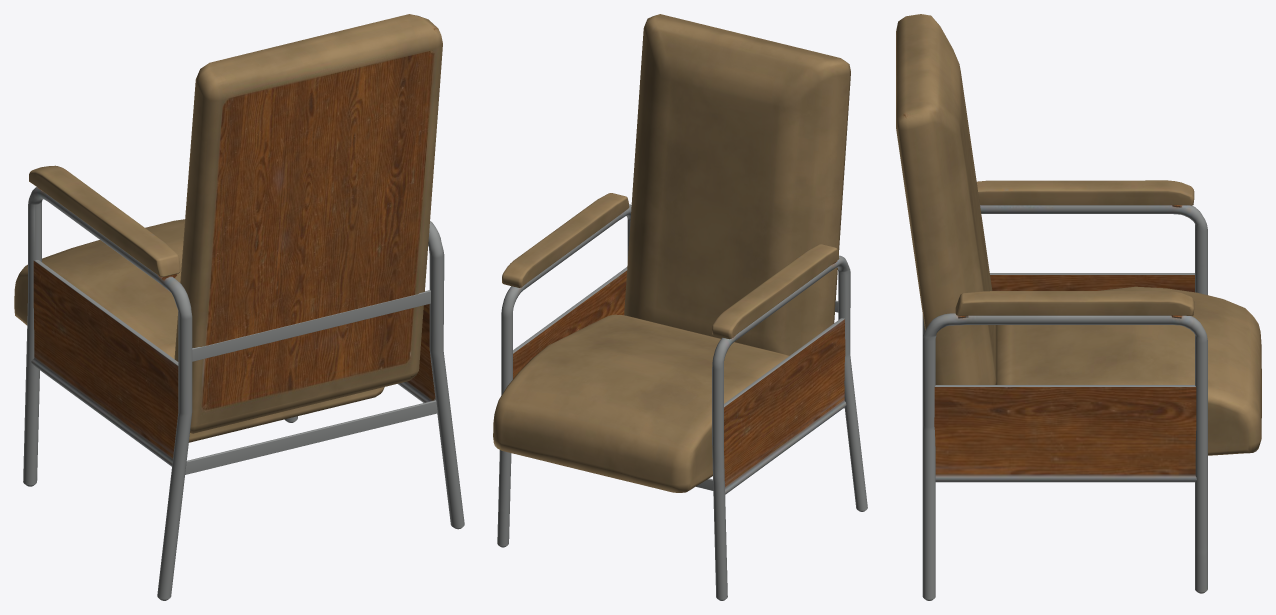
Rendered from chair.fbx.
3 renders of one model, left to right at view 1: azimuth 30°, elevation 25°; view 2: azimuth 150°, elevation 25°; view 3: azimuth 270°, elevation 25°, orthographic. The views are drawn at different scales.
Visible parts, largest first — view 1: defaultMaterial; view 2: defaultMaterial; view 3: defaultMaterial.
Boxes of the visible parts, x1,y1,x2,y2 form: defaultMaterial: [14, 14, 464, 600]; defaultMaterial: [493, 14, 867, 600]; defaultMaterial: [896, 14, 1261, 600].
Bounding box in the file's own units: 122 × 200 × 140.
1 material, 1 textured.
